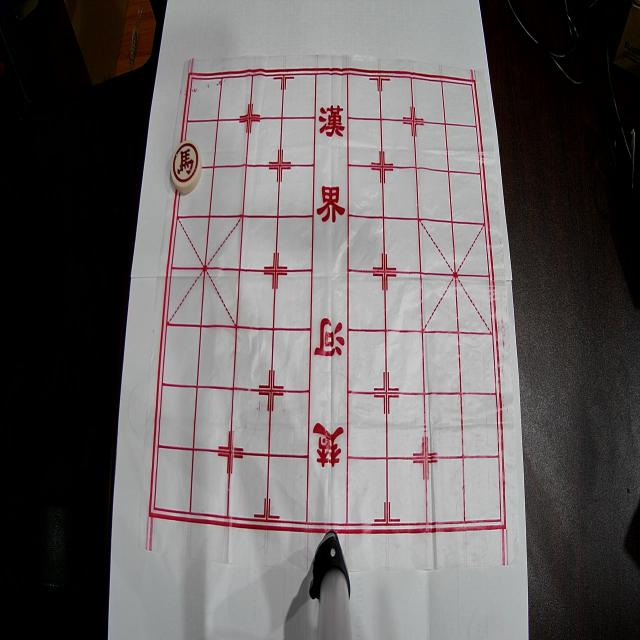red-horse: (171, 140, 202, 194)
